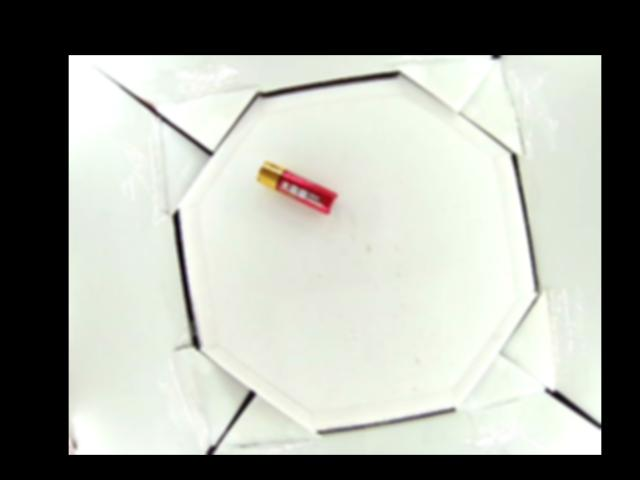Battery: (255, 160, 339, 216)
